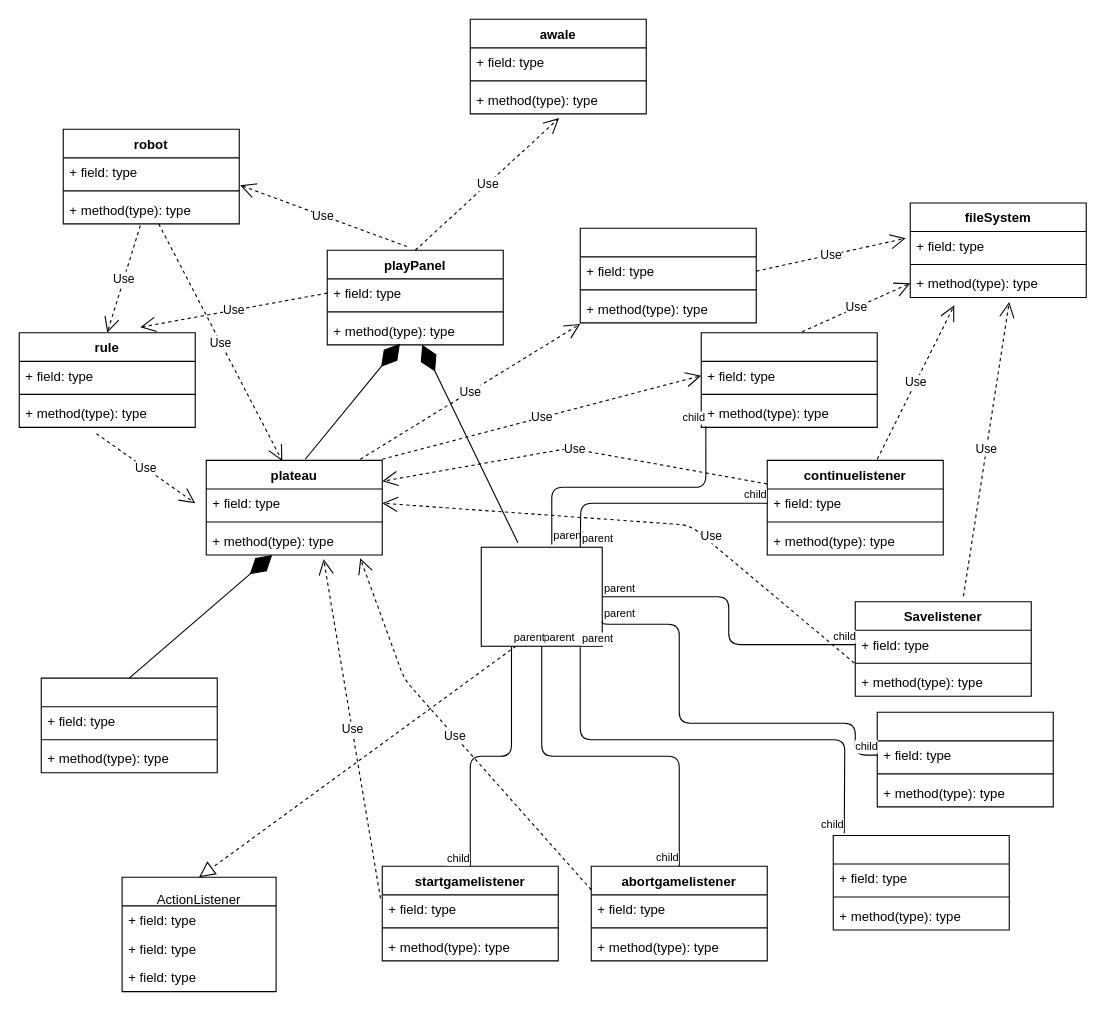
This 1106x1014 diagram has some shape labels left out. The shapes that lost their labels are listed below. From the top down, each one's box as (x1, y1, x2, y2) in pixels, then its label:
(579, 227, 756, 323): loginListener
(700, 332, 877, 427): CreateListener(count)
(480, 546, 602, 646): eventlistener not a class for the easy look represent all the listener
(40, 677, 217, 773): hole
(876, 711, 1053, 807): quitlistener
(832, 834, 1009, 930): returnListener
